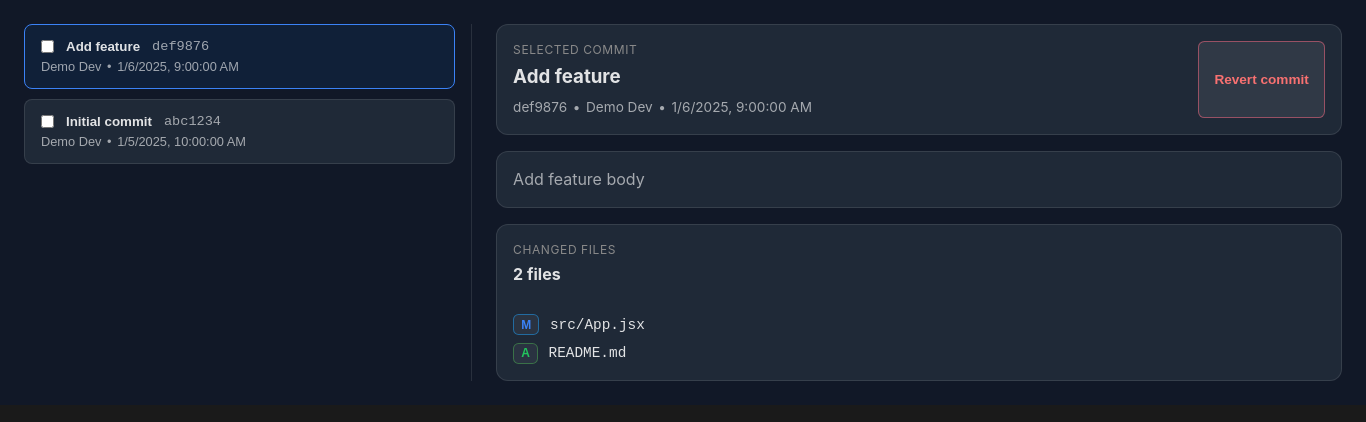
Test: CommitsTab › selecting another commit loads its details once
The width and height of the screenshot is (1366, 422).
What coordinates should you click on to do the following:
click the button with test id "commit-abc1234"
I would click on:
 (240, 132)
Its box is [24,99,455,164].
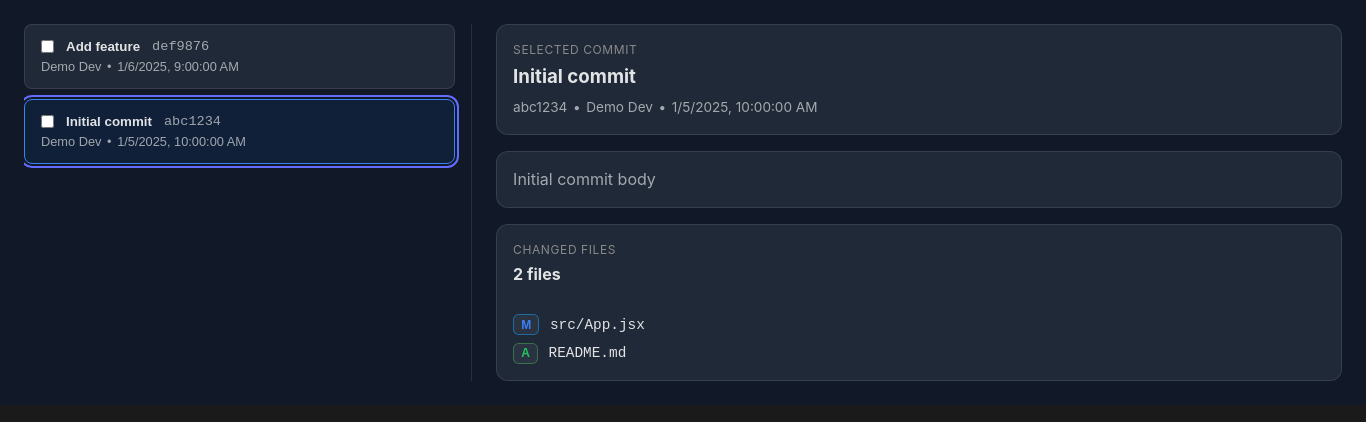
expect the heading "Initial commit" is shown: met, box [513,65,636,88]
